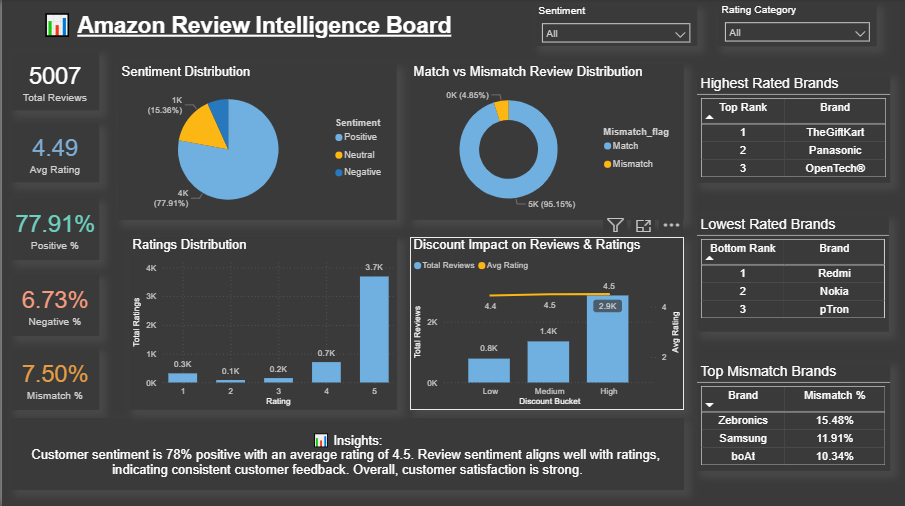

This screenshot's page, from the dashboard's own definition file:
{"tool":"powerbi","page":{"name":"Page 1","canvas":[1280,720],"ordinal":0},"visuals":[{"type":"card","fields":{"Values":["analysis amazon_reviews.Total Reviews"]},"box":[12.8,73.7,124.7,83.6],"z":0},{"type":"card","fields":{"Values":["analysis amazon_reviews.Avg Rating"]},"box":[12.8,175.7,124.7,83.6],"z":1000},{"type":"card","fields":{"Values":["analysis amazon_reviews.Positive %"]},"box":[12.8,282,124.7,87.9],"z":2000},{"type":"card","fields":{"Values":["analysis amazon_reviews.Mismatch %"]},"box":[12.8,494.6,124.7,87.9],"z":3000},{"type":"pieChart","title":"Sentiment Distribution","fields":{"Category":["analysis amazon_reviews.sentiment"],"Y":["analysis amazon_reviews.Total Reviews"]},"box":[164.4,92.1,395.4,221.1],"z":4000},{"type":"donutChart","title":"Match vs Mismatch Review Distribution","fields":{"Category":["analysis amazon_reviews.mismatch_flag"],"Y":["analysis amazon_reviews.Total Reviews"]},"box":[578.3,92.1,388.3,221.1],"z":5000},{"type":"card","fields":{"Values":["analysis amazon_reviews.Negative %"]},"box":[12.8,389.8,124.7,87.9],"z":6000},{"type":"slicer","title":"Sentiment","fields":{"Values":["analysis amazon_reviews.sentiment"]},"box":[755.4,8.5,229.6,58.1],"z":7000},{"type":"slicer","title":"Rating Category","fields":{"Values":["analysis amazon_reviews.rating_category"]},"box":[1014.8,7.1,225.4,59.5],"z":8000},{"type":"tableEx","title":"Highest Rated Brands","fields":{"Values":["analysis amazon_reviews.Top Rank","analysis amazon_reviews.Brand"]},"box":[985,107.7,273.5,153.1],"z":9000},{"type":"tableEx","title":"Lowest Rated Brands","fields":{"Values":["analysis amazon_reviews.Bottom Rank","analysis amazon_reviews.Brand"]},"box":[985,307.6,272.1,164.4],"z":10000},{"type":"lineClusteredColumnComboChart","title":"Discount Impact on Reviews & Ratings","fields":{"Category":["analysis amazon_reviews.Discount Bucket"],"Y":["analysis amazon_reviews.Total Reviews"],"Y2":["analysis amazon_reviews.Avg Rating"]},"box":[578.3,337.3,388.3,245.2],"z":11000},{"type":"tableEx","title":"Top Mismatch Brands","fields":{"Values":["analysis amazon_reviews.Brand","analysis amazon_reviews.Mismatch %"]},"box":[985,515.9,273.5,153.1],"z":12000},{"type":"card","fields":{"Values":["analysis amazon_reviews.Smart AI Summary"]},"box":[12.8,593.9,953.9,102],"z":13000},{"type":"textbox","box":[52.4,8.5,635,56.7],"z":14000},{"type":"columnChart","title":"Ratings Distribution","fields":{"Category":["analysis amazon_reviews.rating"],"Y":["analysis amazon_reviews.Total Ratings"]},"box":[180,337.3,379.8,245.2],"z":15000}]}

Visuals, with their boxes in screenshot pixels (x1, y1, x2, y2), scaled from the page's 1280x720 canvas onto the 905x506 screenshot:
card - analysis amazon_reviews.Total Reviews: (9,52,97,111)
card - analysis amazon_reviews.Avg Rating: (9,123,97,182)
card - analysis amazon_reviews.Positive %: (9,198,97,260)
card - analysis amazon_reviews.Mismatch %: (9,348,97,409)
"Sentiment Distribution" pieChart: (116,65,396,220)
"Match vs Mismatch Review Distribution" donutChart: (409,65,683,220)
card - analysis amazon_reviews.Negative %: (9,274,97,336)
"Sentiment" slicer: (534,6,696,47)
"Rating Category" slicer: (717,5,877,47)
"Highest Rated Brands" tableEx: (696,76,890,183)
"Lowest Rated Brands" tableEx: (696,216,889,332)
"Discount Impact on Reviews & Ratings" lineClusteredColumnComboChart: (409,237,683,409)
"Top Mismatch Brands" tableEx: (696,363,890,470)
card - analysis amazon_reviews.Smart AI Summary: (9,417,683,489)
textbox: (37,6,486,46)
"Ratings Distribution" columnChart: (127,237,396,409)
